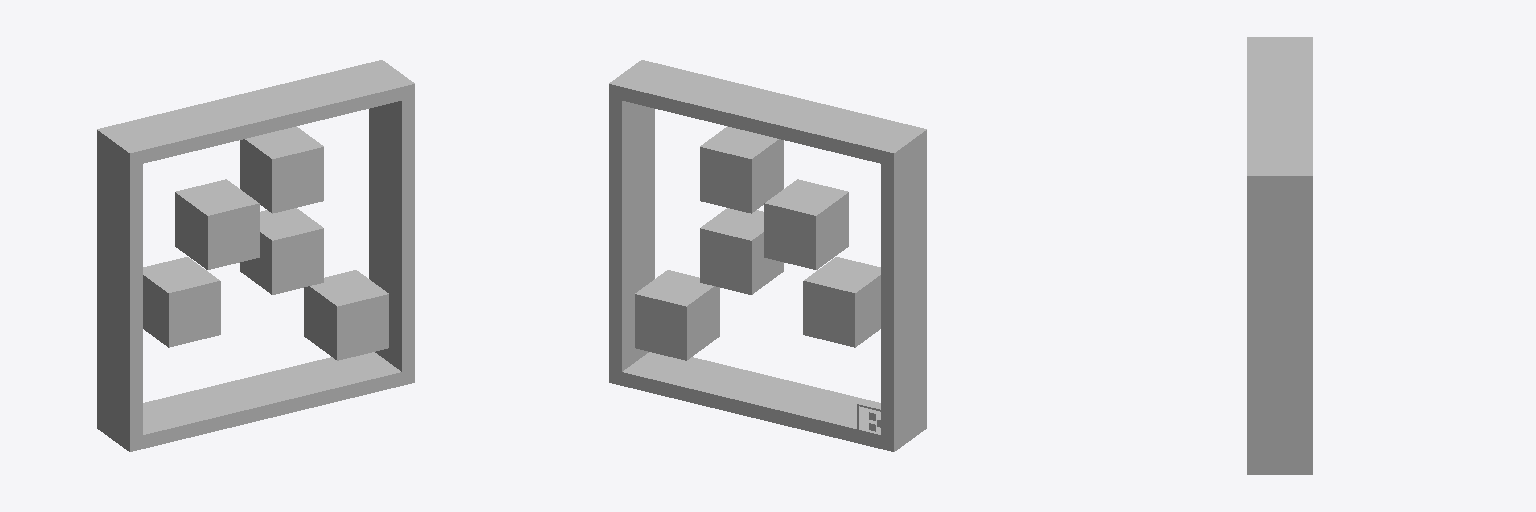
File: Room18.obj
3 views of the same model, side by side, from view 1: azimuth 30°, elevation 25°; view 2: azimuth 150°, elevation 25°; view 3: azimuth 270°, elevation 25° (orthographic).
Parts seen in each view (by area): view 1: Curve.005_mesh_Curve.005; view 2: Curve.005_mesh_Curve.005; view 3: Curve.005_mesh_Curve.005.
Boxes of the visible parts, x1,y1,x2,y2 form: Curve.005_mesh_Curve.005: [97, 60, 414, 451]; Curve.005_mesh_Curve.005: [609, 60, 926, 451]; Curve.005_mesh_Curve.005: [1247, 37, 1312, 474].
Bounding box in the file's own units: 1 × 1 × 0.2.